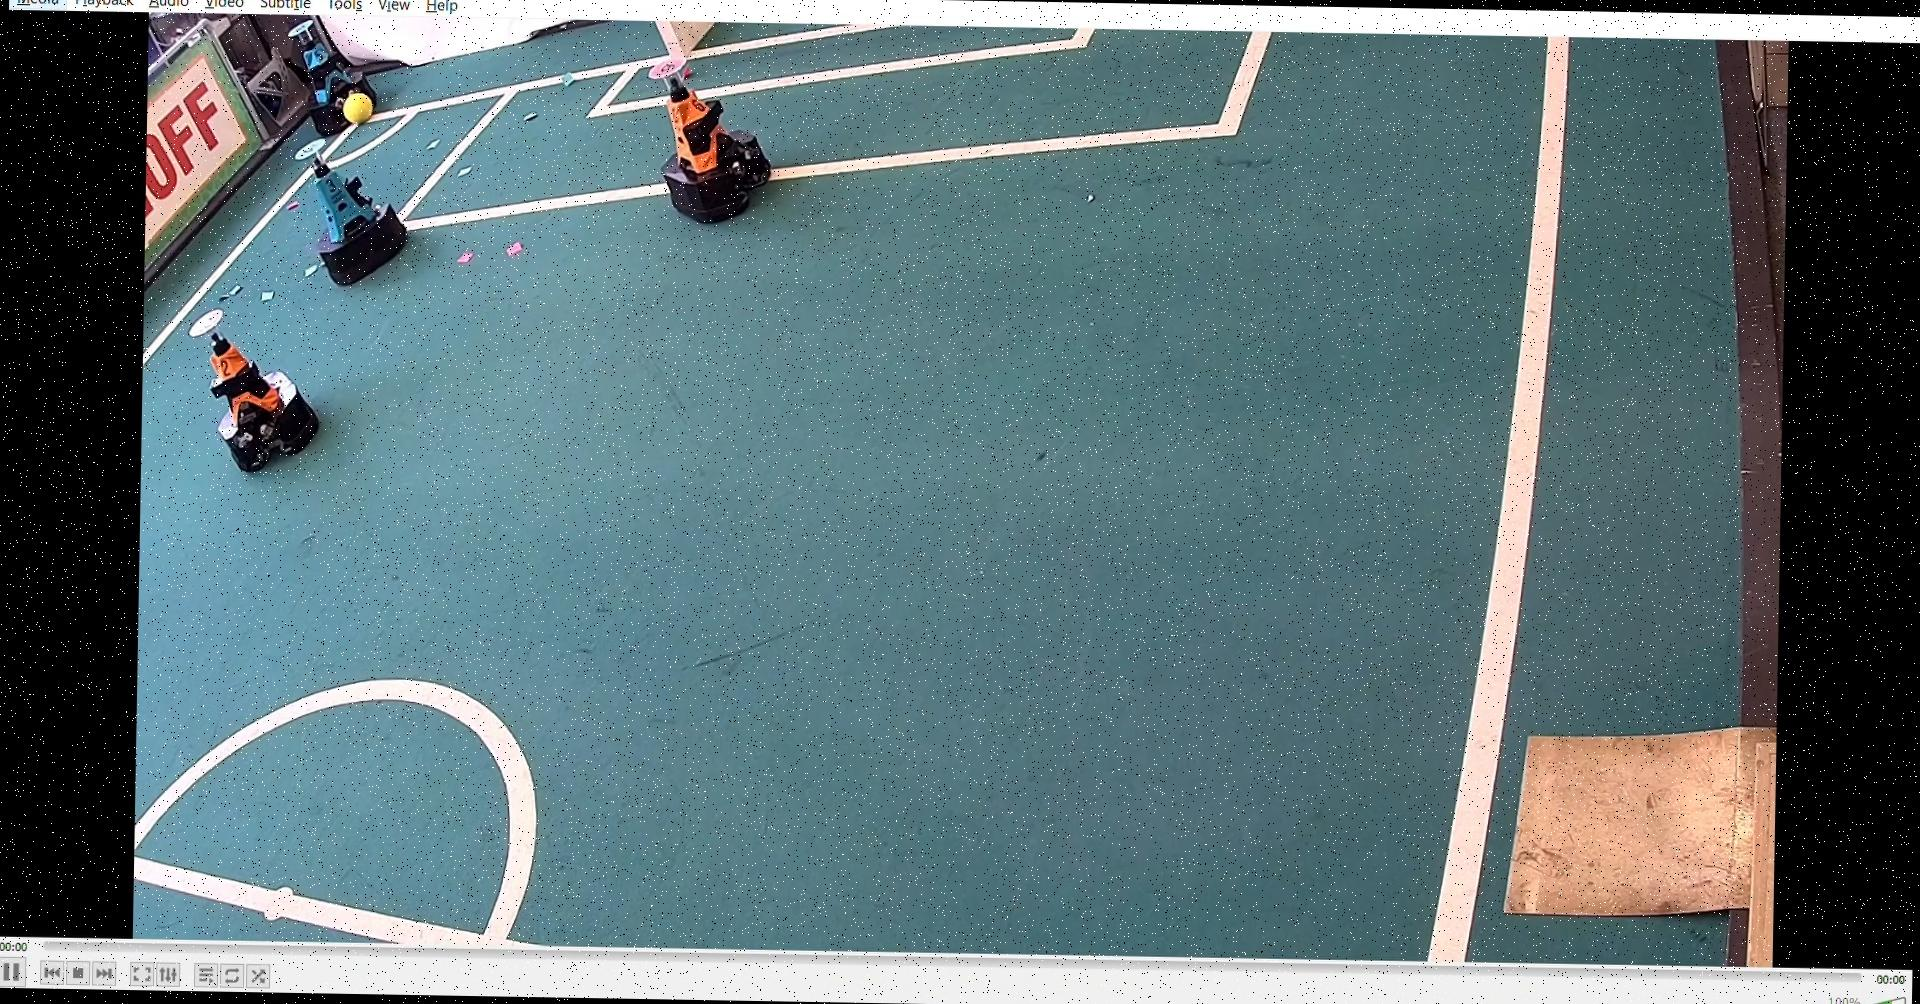Ball: (342, 90, 383, 127)
Team_Blue: (292, 137, 411, 286), (284, 19, 381, 137)
Team_Red: (184, 311, 328, 476), (640, 53, 773, 226)
